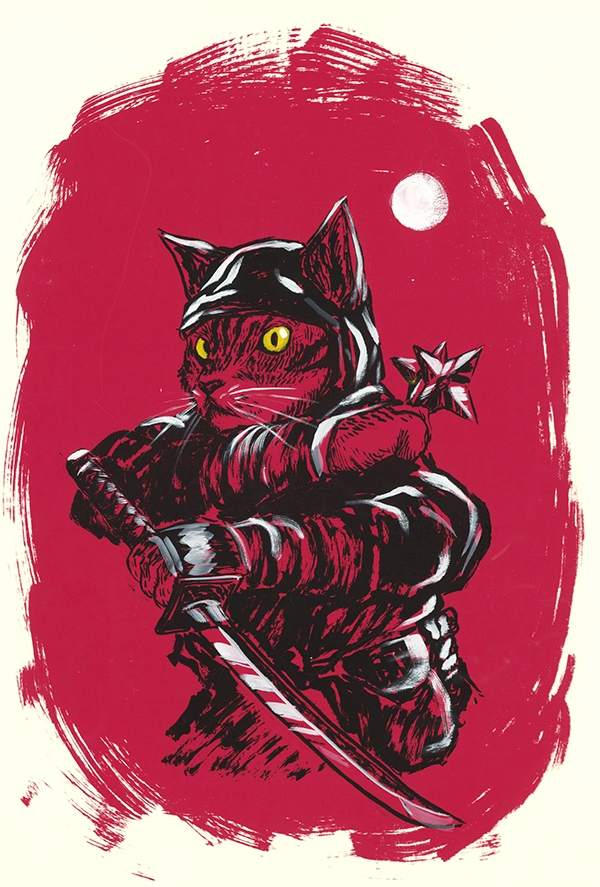cat: (95, 209, 532, 692)
